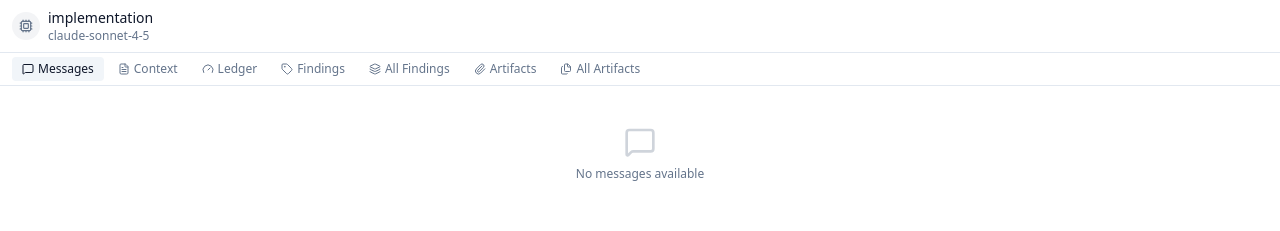
Test case: AgentLogDetail - All Findings tab › All Findings tab shows ALL agent findings (not filtered to selected)
This screenshot has width=1280, height=231.
Click the button "All Findings". click: (409, 69)
box: x1=359 y1=57 x2=460 y2=81
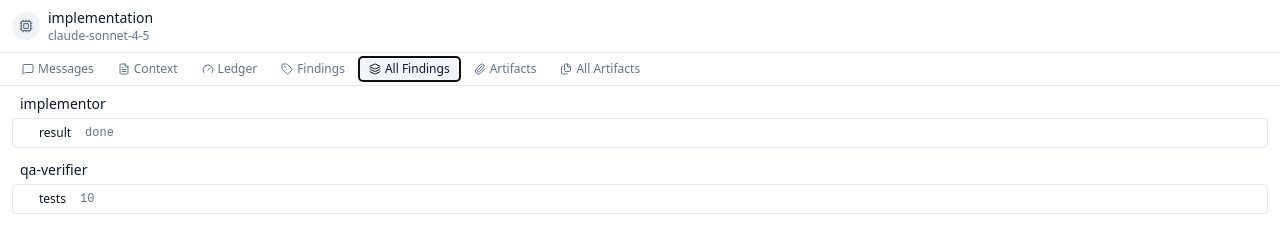
Expected: the heading "implementor" is shown, x1=20 y1=94 x2=106 y2=113
Expected: the heading "qa-verifier" is shown, x1=20 y1=160 x2=88 y2=179
